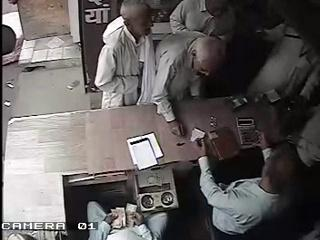Normal: (195, 99, 306, 240), (150, 31, 227, 137), (169, 0, 214, 35)
shoplifting: (94, 0, 156, 109)
